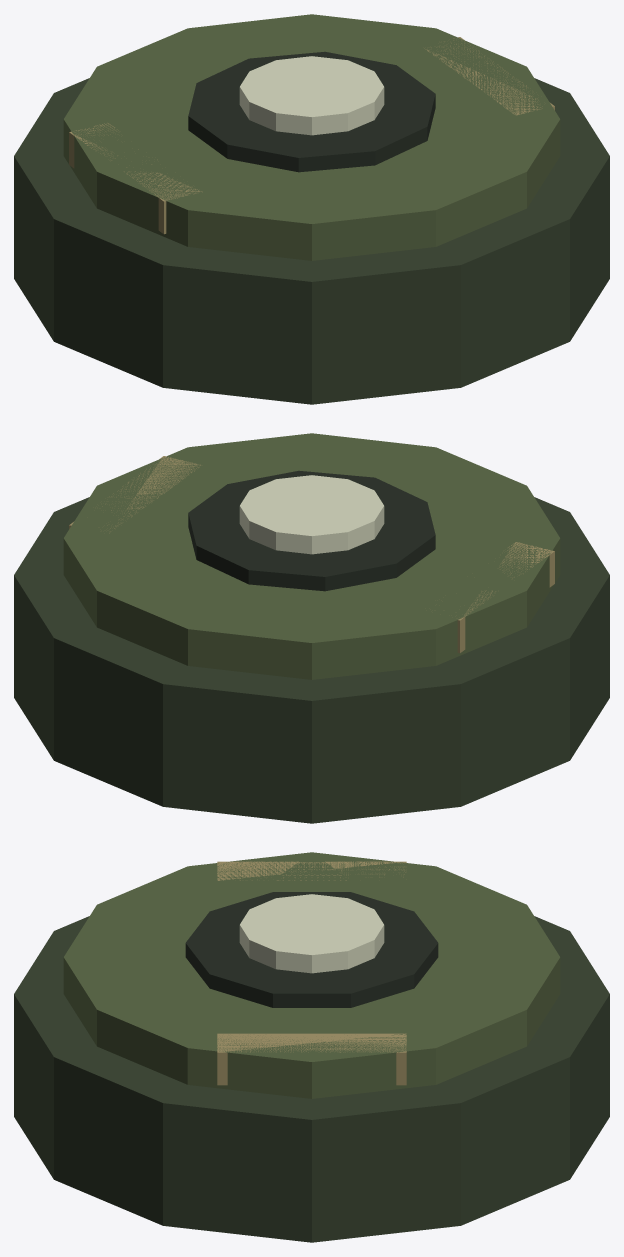
The model's file is mine_friendly.obj.
3 renders of one model, top to bottom at view 1: azimuth 30°, elevation 25°; view 2: azimuth 150°, elevation 25°; view 3: azimuth 270°, elevation 25°, orthographic.
Parts seen in each view (by area): view 1: MineBody.001, MineSignal.001; view 2: MineBody.001, MineSignal.001; view 3: MineBody.001, MineSignal.001.
Part boxes in pixels (box(x1,y1,x2,y2)): MineBody.001: box(14, 14, 609, 404); MineSignal.001: box(239, 56, 384, 135); MineBody.001: box(14, 433, 609, 823); MineSignal.001: box(239, 475, 384, 554); MineBody.001: box(14, 852, 609, 1242); MineSignal.001: box(239, 894, 384, 973).
Bounding box in the file's own units: 1.32 × 0.4695 × 1.32.
Materials: 1 (1 with a texture image).
